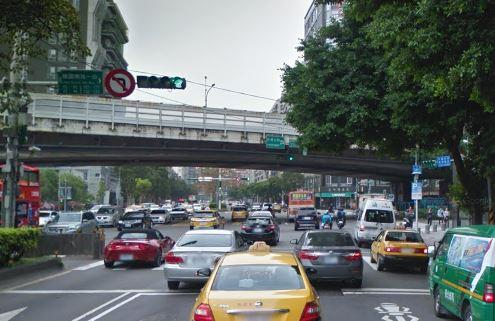green_traffic_light: (136, 74, 185, 88)
no_left_turn: (103, 68, 134, 96)
